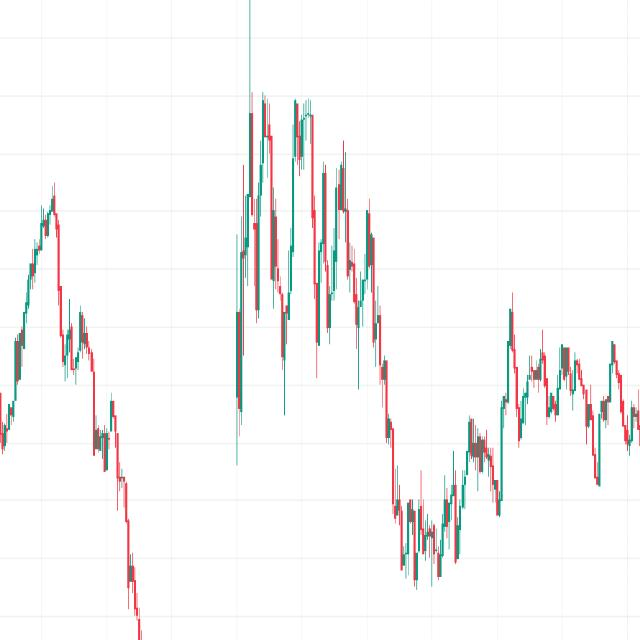Falling-Wedge: (15, 158, 137, 514)
Triangle: (231, 0, 438, 519)
